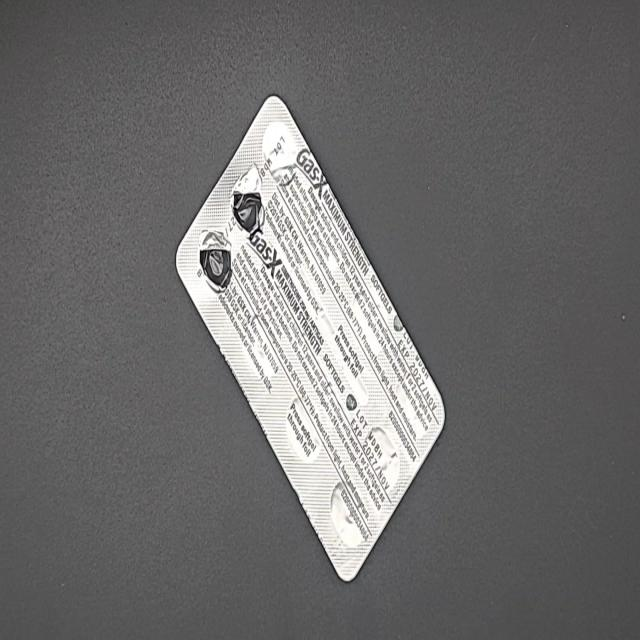defect: (228, 162, 266, 239), (197, 223, 234, 296)
